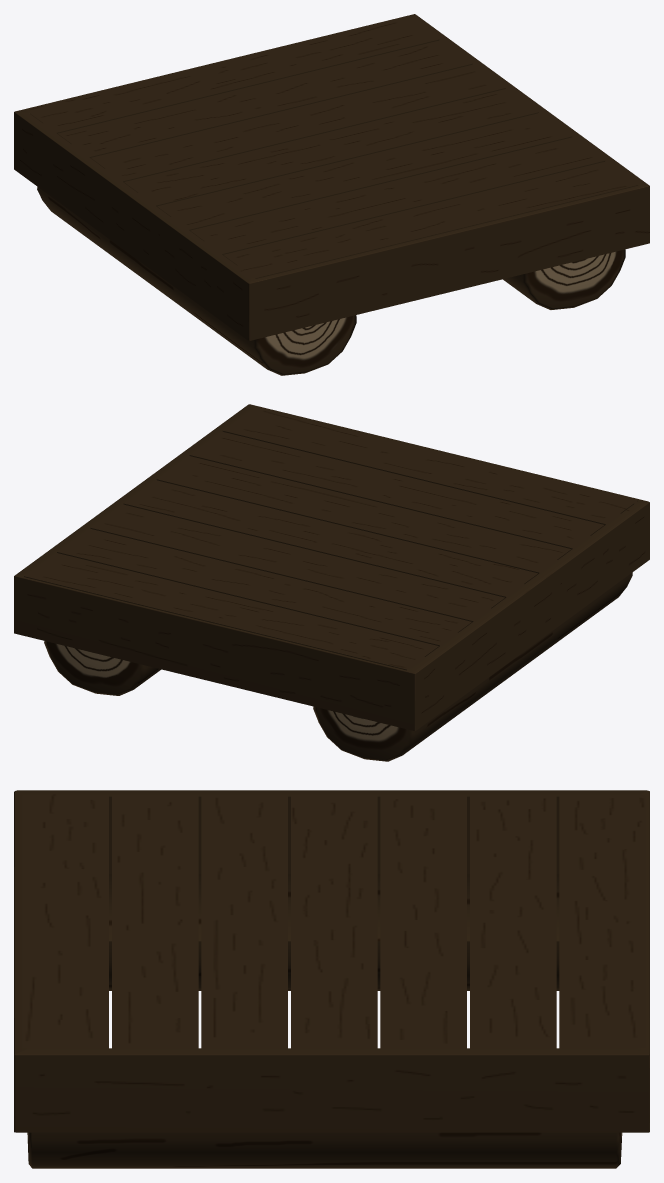
The model's file is Raft.fbx.
The picture shows the model from 3 angles, top to bottom: view 1: azimuth 30°, elevation 25°; view 2: azimuth 150°, elevation 25°; view 3: azimuth 270°, elevation 25°; orthographic projection. The views are drawn at different scales.
Visible parts, largest first — view 1: Raft_square; view 2: Raft_square; view 3: Raft_square.
Part boxes in pixels (x1,y1,x2,y2): Raft_square: [14, 14, 649, 375]; Raft_square: [14, 404, 649, 761]; Raft_square: [14, 790, 649, 1168].
Bounding box in the file's own units: 7.23 × 1.9 × 7.33.
